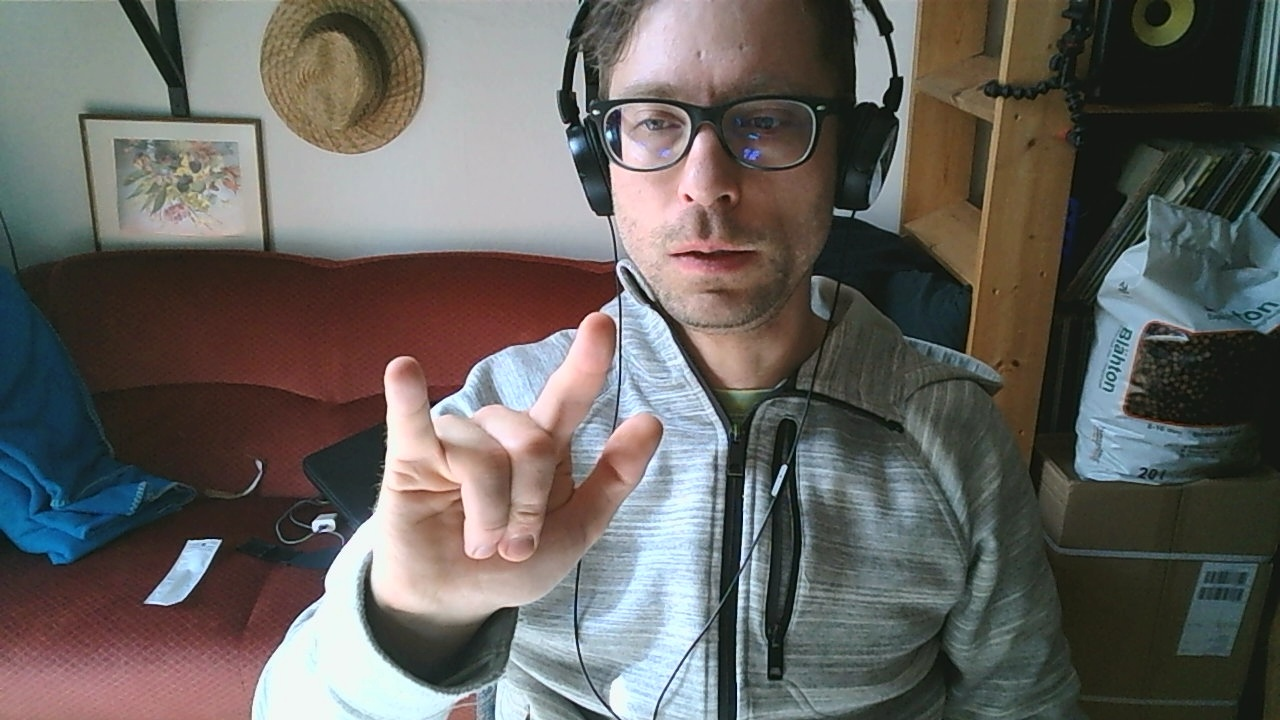iloveyou: (369, 314, 665, 610)
